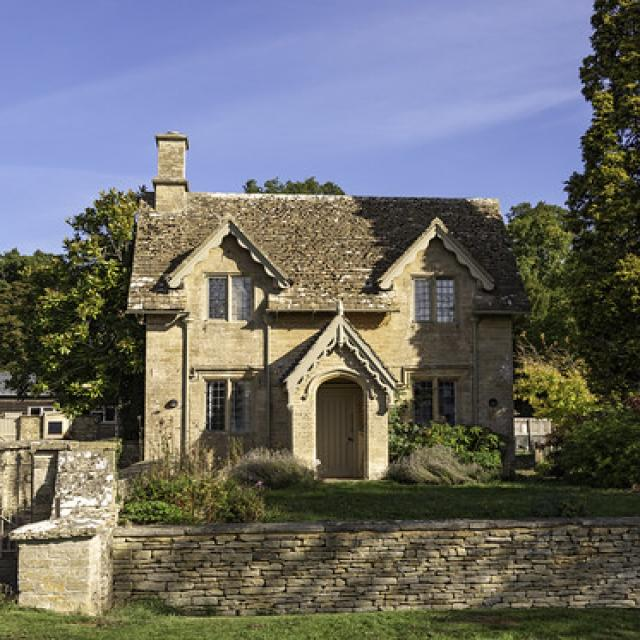Normal_building: (117, 130, 535, 490)
